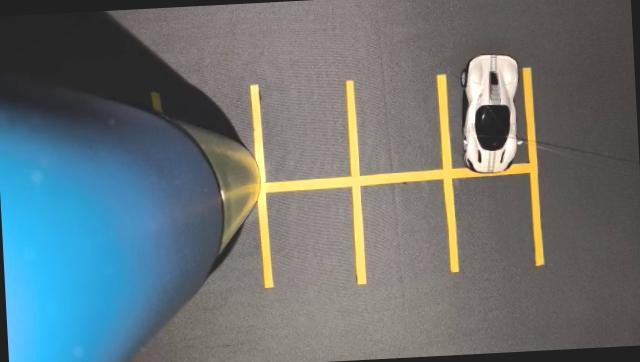toy_car: (421, 27, 536, 182)
